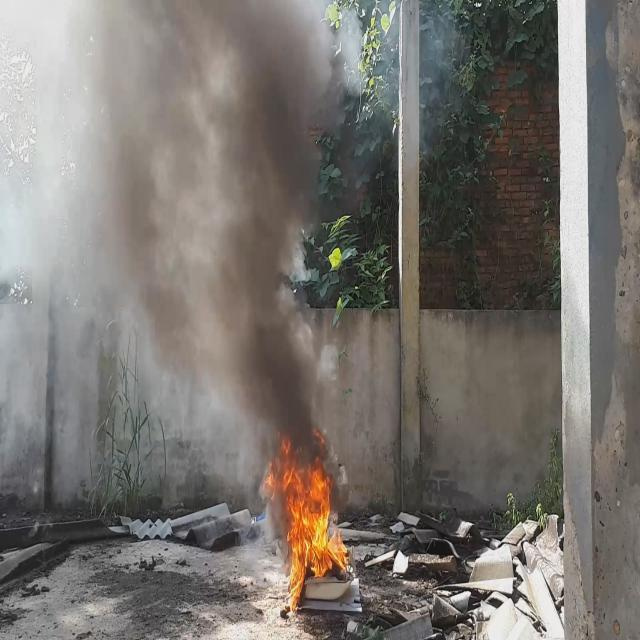Fire: (264, 420, 350, 616)
Smoke: (0, 0, 339, 484)
